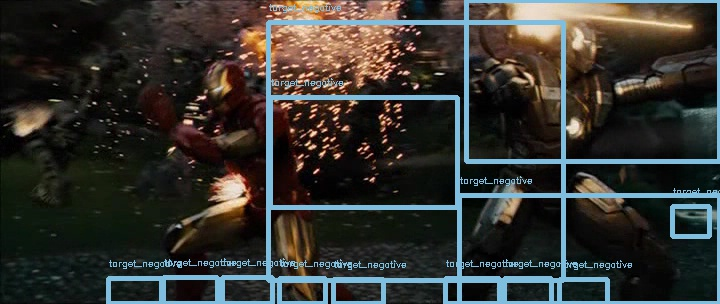person: (200, 60, 242, 103), (199, 60, 241, 103), (201, 60, 243, 103), (200, 59, 242, 102), (200, 61, 242, 104)
target_negative: (183, 179, 498, 269), (347, 102, 571, 209), (482, 200, 681, 303), (160, 161, 279, 233), (474, 293, 578, 303)
